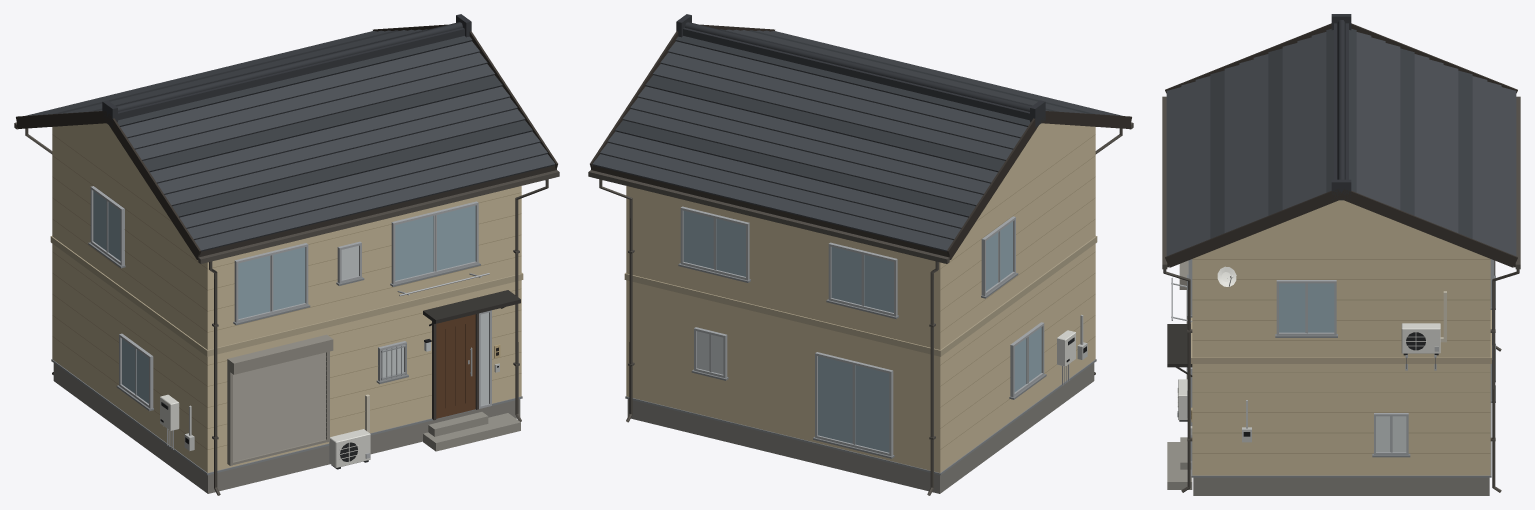
Rendered from house_a.glb.
3 renders of one model, left to right at view 1: azimuth 30°, elevation 25°; view 2: azimuth 150°, elevation 25°; view 3: azimuth 270°, elevation 25°, orthographic. The views are drawn at different scales.
Parts seen in each view (by area): view 1: house_a; view 2: house_a; view 3: house_a.
Boxes of the visible parts, x1=… form: house_a: x1=14, y1=14, x2=559, y2=495; house_a: x1=588, y1=14, x2=1133, y2=495; house_a: x1=1162, y1=14, x2=1520, y2=495.
Size of the model in its own units: 8 by 7.2 by 7.2.
